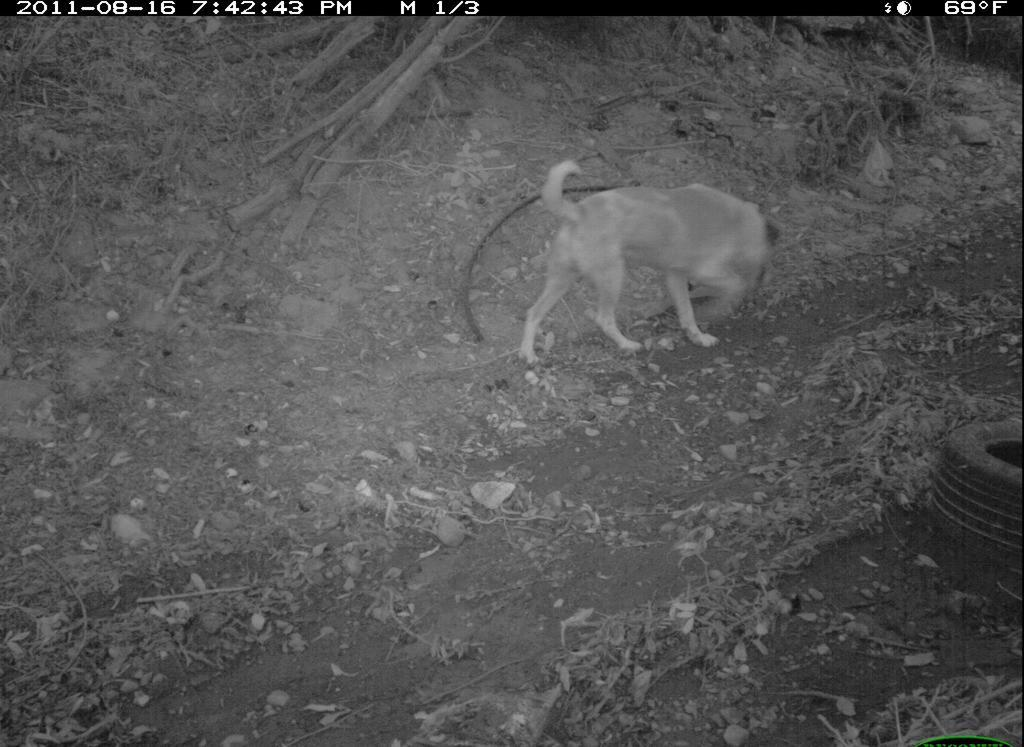dog: (514, 158, 790, 374)
